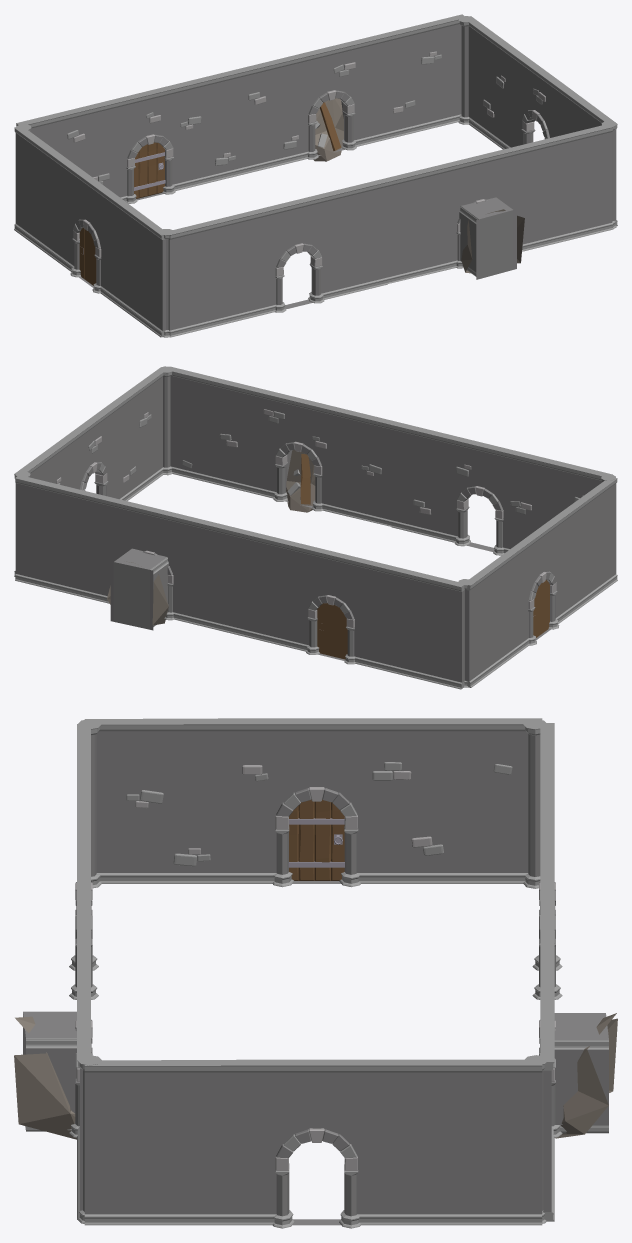
File: Map5_wall.fbx
3 views of the same model, one above another, from view 1: azimuth 30°, elevation 25°; view 2: azimuth 150°, elevation 25°; view 3: azimuth 270°, elevation 25° (orthographic). The views are drawn at different scales.
Visible parts, largest first — view 1: Map 3 wall; view 2: Map 3 wall; view 3: Map 3 wall.
Part boxes in pixels (x1,y1,x2,y2): Map 3 wall: (14,14,617,337); Map 3 wall: (14,366,617,689); Map 3 wall: (14,718,617,1228).
Bounding box in the file's own units: 5896 × 1368 × 4250.
